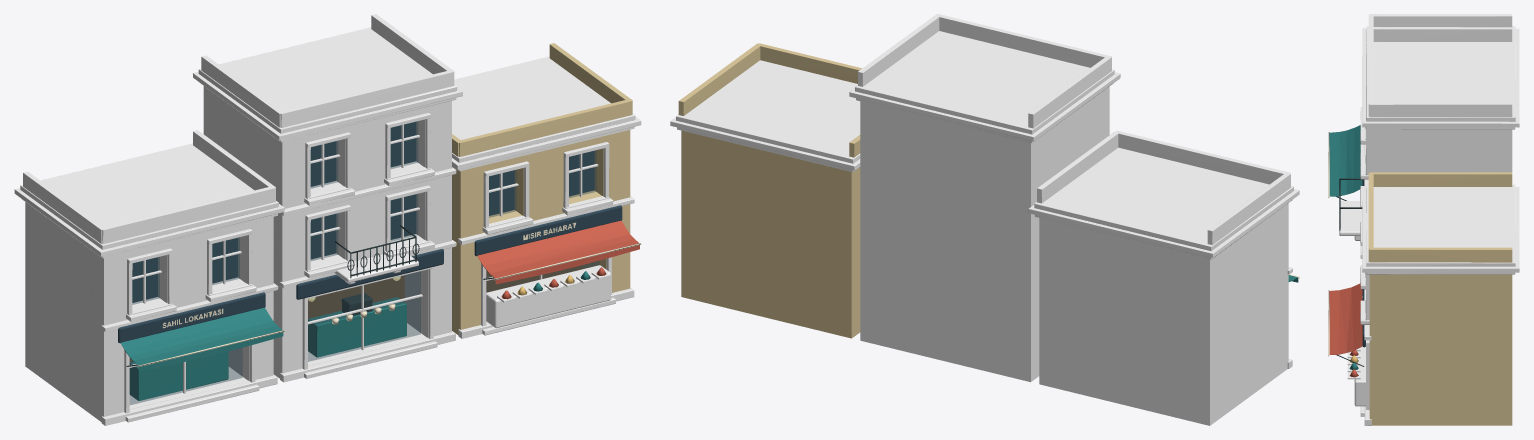
The model's file is DistrictBlock_2_0_LOD1.glb.
3 renders of one model, left to right at view 1: azimuth 30°, elevation 25°; view 2: azimuth 150°, elevation 25°; view 3: azimuth 270°, elevation 25°, orthographic. The views are drawn at different scales.
Visible parts, largest first — view 1: RK_DistrictBlock_2_0_LOD1_LC_Lime, RK_DistrictBlock_2_0_LOD1_LC_Brick, RK_DistrictBlock_2_0_LOD1_LC_Coral, RK_DistrictBlock_2_0_LOD1_LC_Ochre, RK_DistrictBlock_2_0_LOD1_LC_Ink, RK_DistrictBlock_2_0_LOD1_LC_Glass, RK_DistrictBlock_2_0_LOD1_LC_Teal, RK_DistrictBlock_2_0_LOD1_LC_Wood, RK_DistrictBlock_2_0_LOD1_LC_Red, RK_DistrictBlock_2_0_LOD1_LC_Interior, RK_DistrictBlock_2_0_LOD1_LC_Iron, RK_DistrictBlock_2_0_LOD1_LC_Canvas; view 2: RK_DistrictBlock_2_0_LOD1_LC_Brick, RK_DistrictBlock_2_0_LOD1_LC_Coral, RK_DistrictBlock_2_0_LOD1_LC_Lime, RK_DistrictBlock_2_0_LOD1_LC_Ochre; view 3: RK_DistrictBlock_2_0_LOD1_LC_Ochre, RK_DistrictBlock_2_0_LOD1_LC_Lime, RK_DistrictBlock_2_0_LOD1_LC_Brick, RK_DistrictBlock_2_0_LOD1_LC_Red, RK_DistrictBlock_2_0_LOD1_LC_Teal, RK_DistrictBlock_2_0_LOD1_LC_Coral, RK_DistrictBlock_2_0_LOD1_LC_Wood, RK_DistrictBlock_2_0_LOD1_LC_Canvas, RK_DistrictBlock_2_0_LOD1_LC_Iron.
Part boxes in pixels (x1=…): RK_DistrictBlock_2_0_LOD1_LC_Lime: x1=14, y1=27, x2=641, y2=425; RK_DistrictBlock_2_0_LOD1_LC_Brick: x1=201, y1=14, x2=454, y2=378; RK_DistrictBlock_2_0_LOD1_LC_Coral: x1=23, y1=130, x2=275, y2=421; RK_DistrictBlock_2_0_LOD1_LC_Ochre: x1=452, y1=43, x2=632, y2=334; RK_DistrictBlock_2_0_LOD1_LC_Ink: x1=118, y1=122, x2=622, y2=343; RK_DistrictBlock_2_0_LOD1_LC_Glass: x1=130, y1=121, x2=598, y2=404; RK_DistrictBlock_2_0_LOD1_LC_Teal: x1=120, y1=271, x2=590, y2=400; RK_DistrictBlock_2_0_LOD1_LC_Wood: x1=129, y1=124, x2=610, y2=409; RK_DistrictBlock_2_0_LOD1_LC_Red: x1=477, y1=220, x2=639, y2=299; RK_DistrictBlock_2_0_LOD1_LC_Interior: x1=129, y1=265, x2=582, y2=362; RK_DistrictBlock_2_0_LOD1_LC_Iron: x1=126, y1=225, x2=494, y2=366; RK_DistrictBlock_2_0_LOD1_LC_Canvas: x1=137, y1=222, x2=641, y2=368; RK_DistrictBlock_2_0_LOD1_LC_Brick: x1=858, y1=14, x2=1111, y2=382; RK_DistrictBlock_2_0_LOD1_LC_Coral: x1=1037, y1=130, x2=1290, y2=425; RK_DistrictBlock_2_0_LOD1_LC_Lime: x1=670, y1=31, x2=1299, y2=368; RK_DistrictBlock_2_0_LOD1_LC_Ochre: x1=678, y1=43, x2=861, y2=338; RK_DistrictBlock_2_0_LOD1_LC_Ochre: x1=1368, y1=172, x2=1512, y2=425; RK_DistrictBlock_2_0_LOD1_LC_Lime: x1=1339, y1=26, x2=1519, y2=425; RK_DistrictBlock_2_0_LOD1_LC_Brick: x1=1368, y1=27, x2=1512, y2=172; RK_DistrictBlock_2_0_LOD1_LC_Red: x1=1329, y1=283, x2=1362, y2=377; RK_DistrictBlock_2_0_LOD1_LC_Teal: x1=1329, y1=125, x2=1362, y2=369; RK_DistrictBlock_2_0_LOD1_LC_Coral: x1=1368, y1=14, x2=1512, y2=27; RK_DistrictBlock_2_0_LOD1_LC_Wood: x1=1354, y1=346, x2=1365, y2=406; RK_DistrictBlock_2_0_LOD1_LC_Canvas: x1=1328, y1=132, x2=1362, y2=356; RK_DistrictBlock_2_0_LOD1_LC_Iron: x1=1336, y1=178, x2=1364, y2=366.
Bounding box in the file's own units: 19.1 × 9.02 × 6.44.
